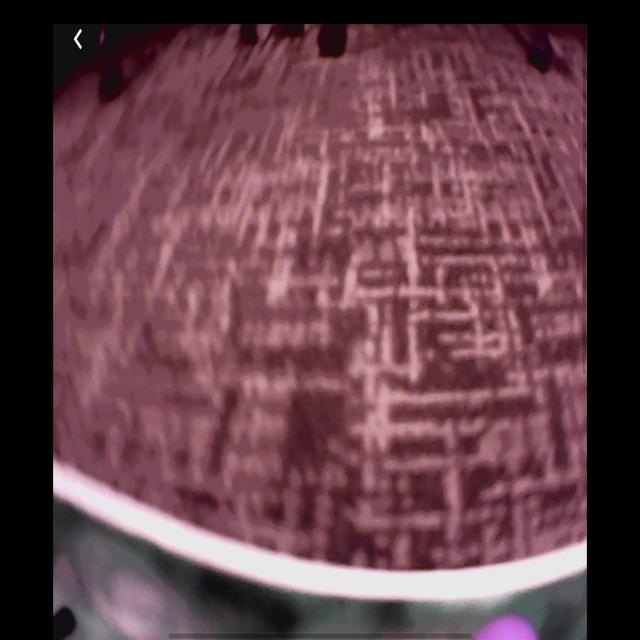ball: (473, 614, 540, 639)
